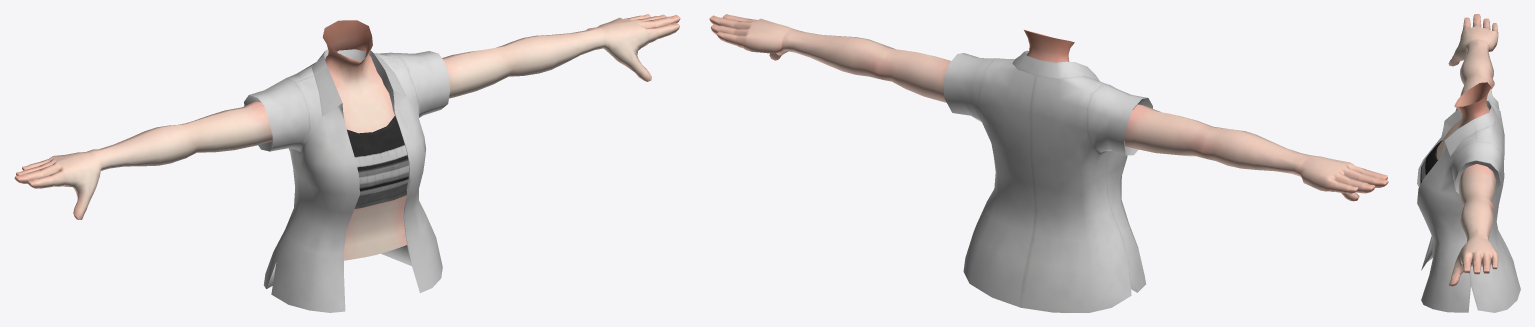
File: tr0870_00_upb00.gltf
The picture shows the model from 3 angles, left to right: view 1: azimuth 30°, elevation 25°; view 2: azimuth 150°, elevation 25°; view 3: azimuth 270°, elevation 25°; orthographic projection. The views are drawn at different scales.
Visible parts, largest first — view 1: upb00_jacket_mesh_shape:upperbody00, upb00_skin_mesh_shape:upperbody00_skin, upb00_wear_mesh_shape:upperbody00; view 2: upb00_jacket_mesh_shape:upperbody00, upb00_skin_mesh_shape:upperbody00_skin; view 3: upb00_jacket_mesh_shape:upperbody00, upb00_skin_mesh_shape:upperbody00_skin, upb00_wear_mesh_shape:upperbody00.
Boxes of the visible parts, box(x1,y1,x2,y2) form: upb00_jacket_mesh_shape:upperbody00: box(244, 49, 450, 312); upb00_skin_mesh_shape:upperbody00_skin: box(14, 14, 680, 260); upb00_wear_mesh_shape:upperbody00: box(347, 116, 408, 208); upb00_jacket_mesh_shape:upperbody00: box(943, 50, 1152, 312); upb00_skin_mesh_shape:upperbody00_skin: box(709, 14, 1388, 201); upb00_jacket_mesh_shape:upperbody00: box(1417, 93, 1520, 312); upb00_skin_mesh_shape:upperbody00_skin: box(1432, 14, 1498, 286); upb00_wear_mesh_shape:upperbody00: box(1419, 140, 1442, 185).
Size of what is drawn, in the model's own units: 1.63 by 0.5967 by 0.2779.
2 materials, 2 textured.
